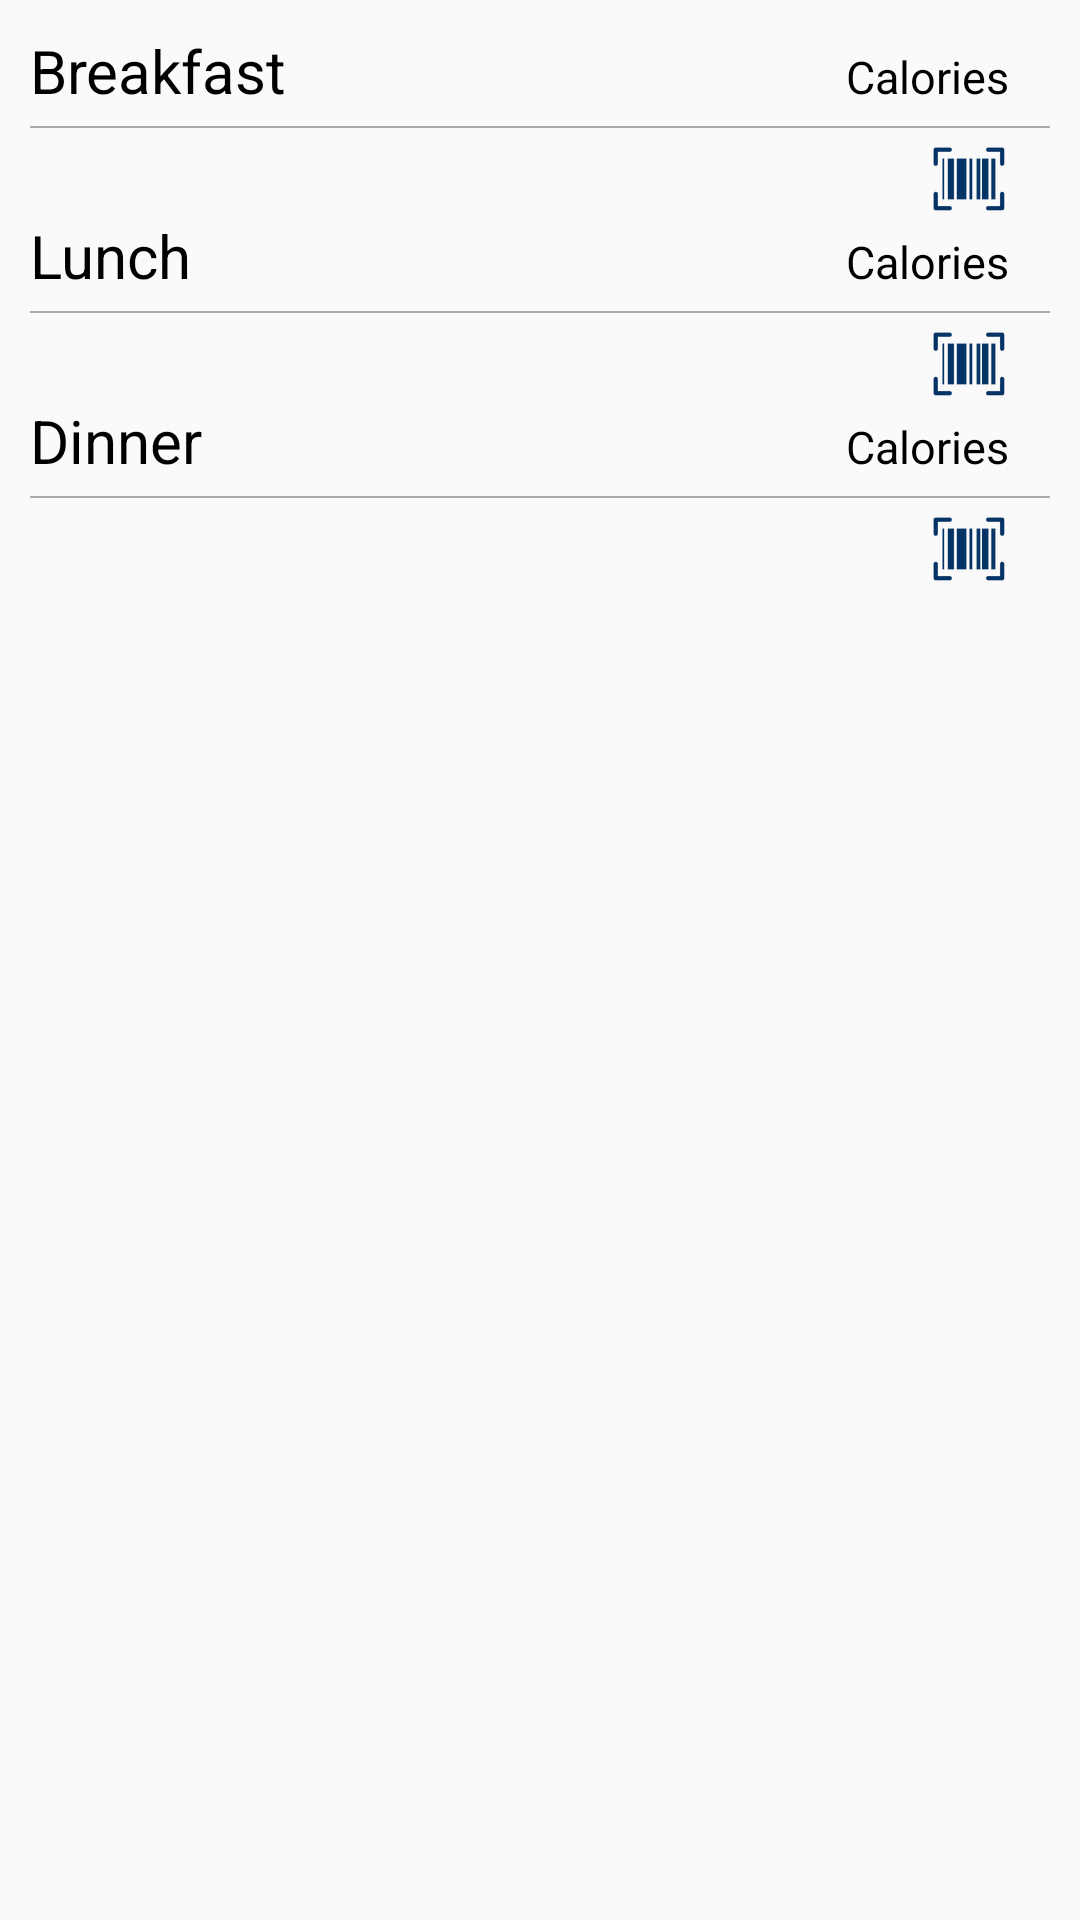

Named icons in this screenshot (1080 × 1920) and their bounding boxes, (x1, y1, x2, y2):
barcode: (933, 147, 1005, 211), (933, 332, 1005, 396), (933, 517, 1005, 581)
